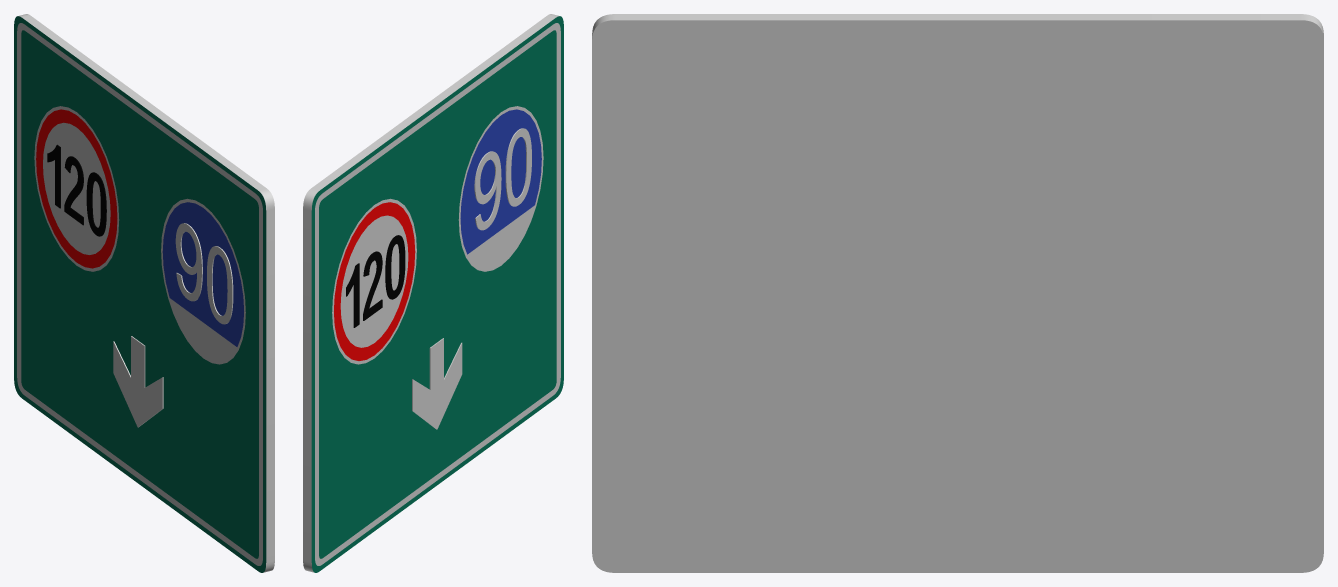
The model's file is Speed_Limit_90-120.fbx.
The picture shows the model from 3 angles, left to right: view 1: azimuth 30°, elevation 25°; view 2: azimuth 150°, elevation 25°; view 3: azimuth 270°, elevation 25°; orthographic projection. The views are drawn at different scales.
Parts seen in each view (by area): view 1: Speed_Limit_90_120; view 2: Speed_Limit_90_120; view 3: Speed_Limit_90_120.
Part boxes in pixels (left/top/right/bottom): Speed_Limit_90_120: left=14, top=14, right=274, bottom=572; Speed_Limit_90_120: left=303, top=14, right=563, bottom=572; Speed_Limit_90_120: left=592, top=14, right=1323, bottom=572.
Bounding box in the file's own units: 0.0331 × 1.25 × 1.5.
